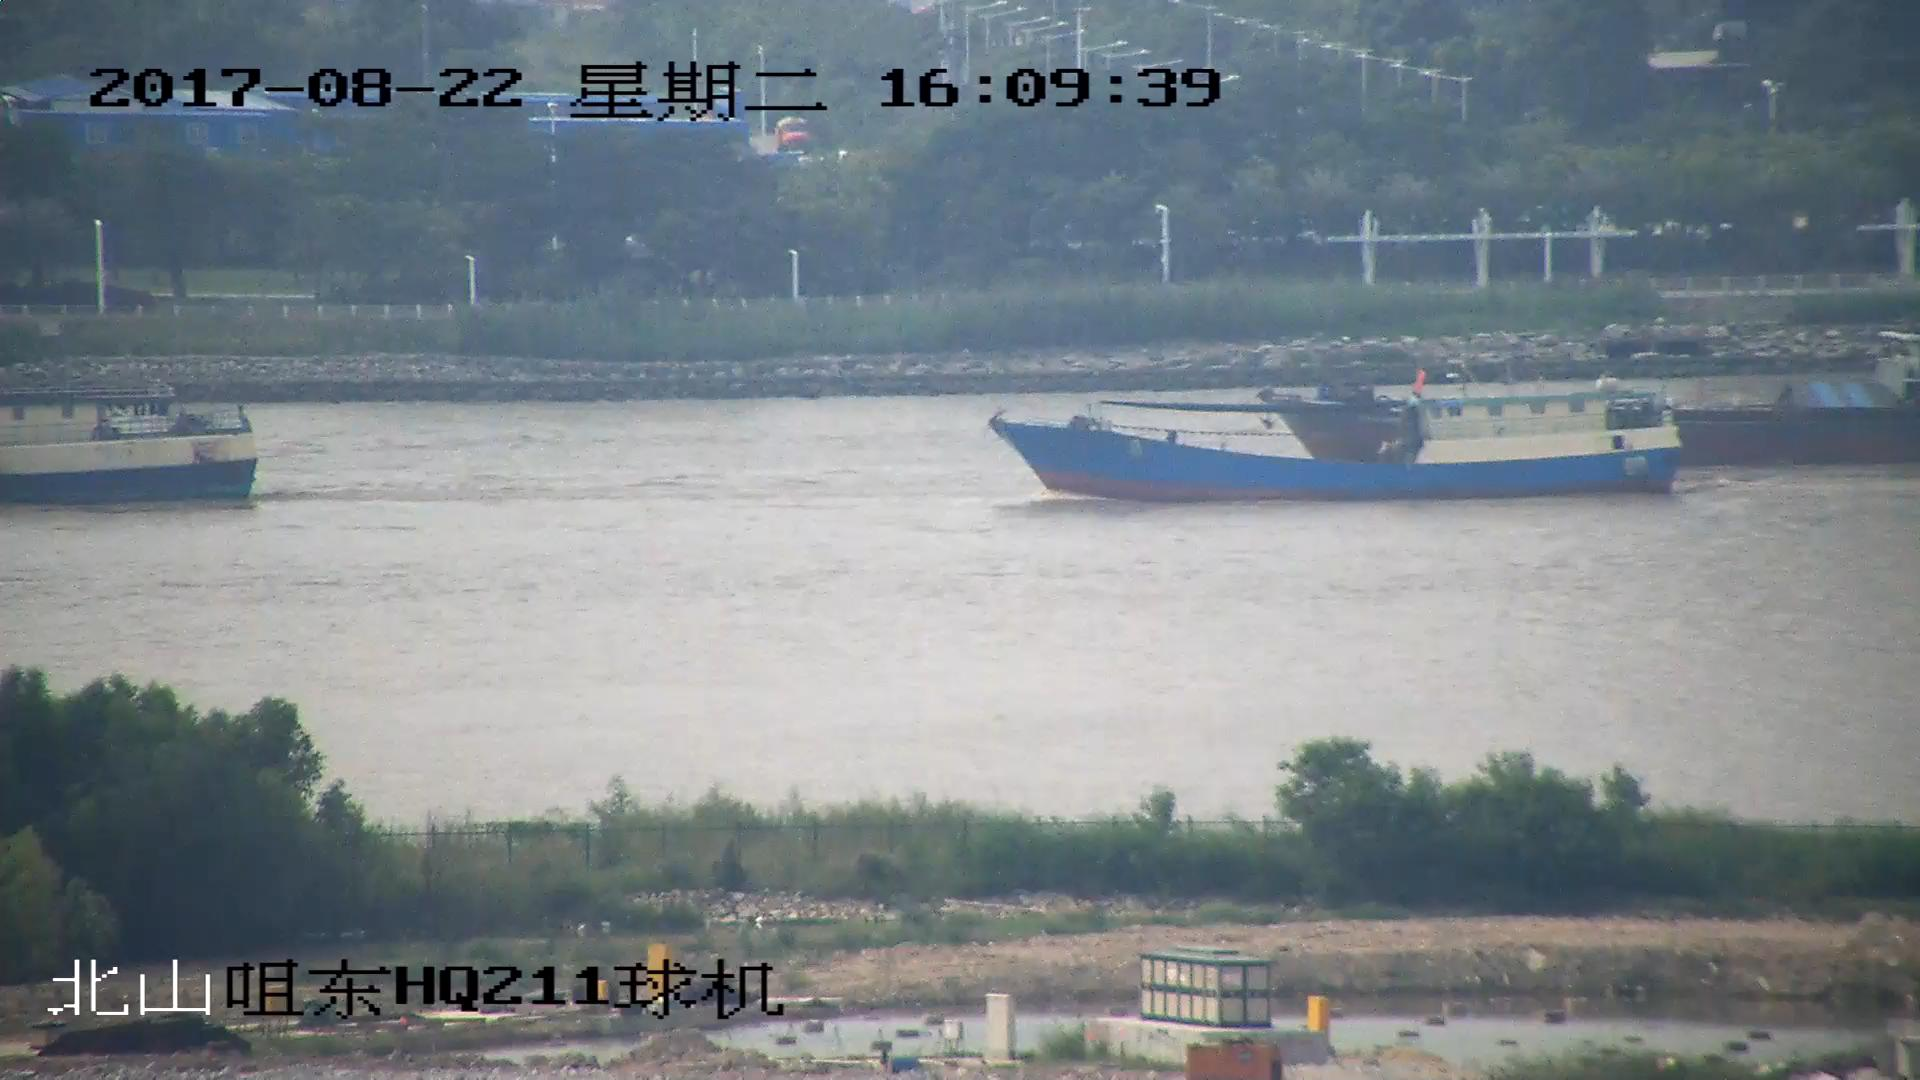bulk cargo carrier: (1267, 322, 1920, 473)
fishing boat: (985, 386, 1685, 507), (1, 386, 253, 506)
